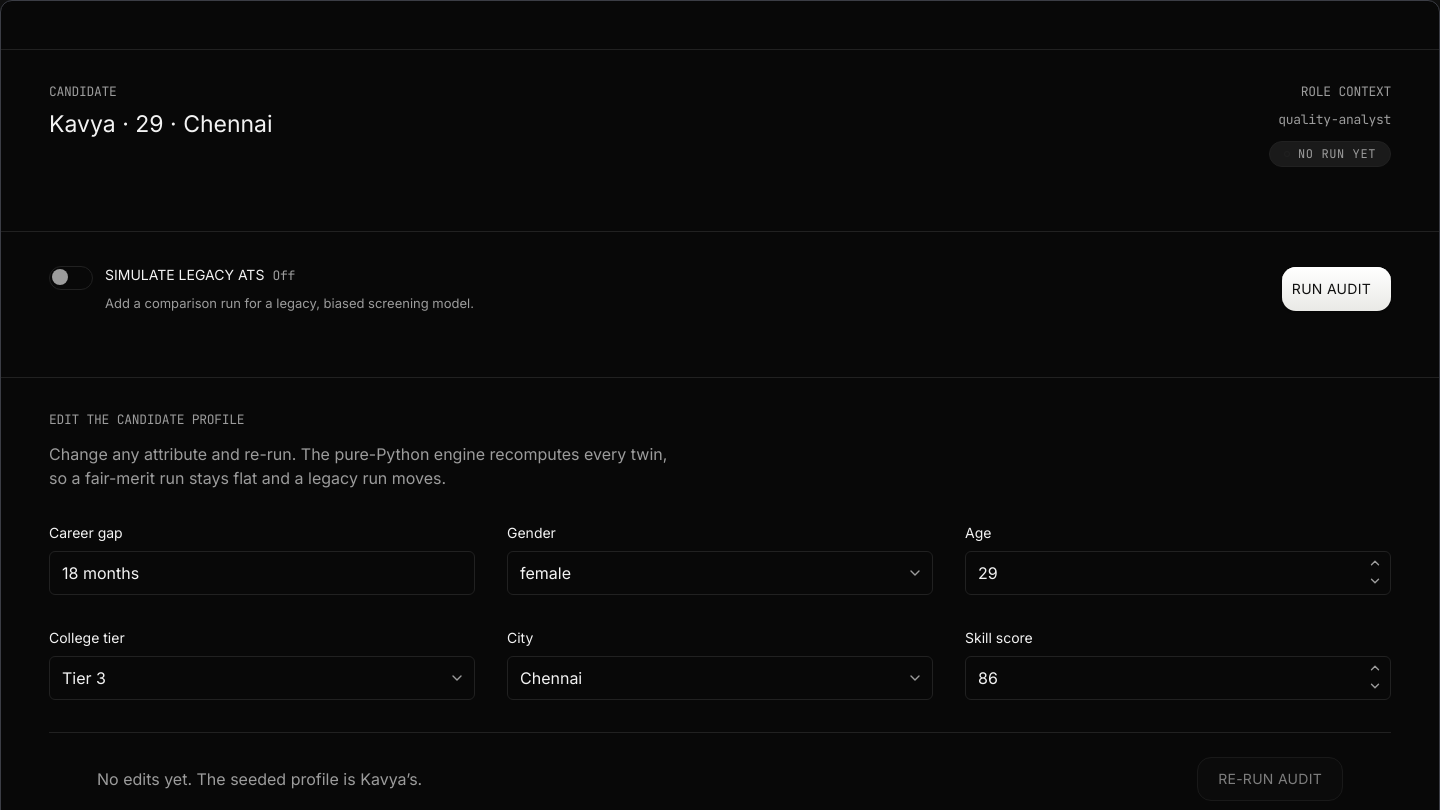
it: GhostTwinPanel › renders the response source instead of assuming local
The width and height of the screenshot is (1440, 810).
Click the button "Run Audit" at (1336, 288), box [1282,266,1391,310]
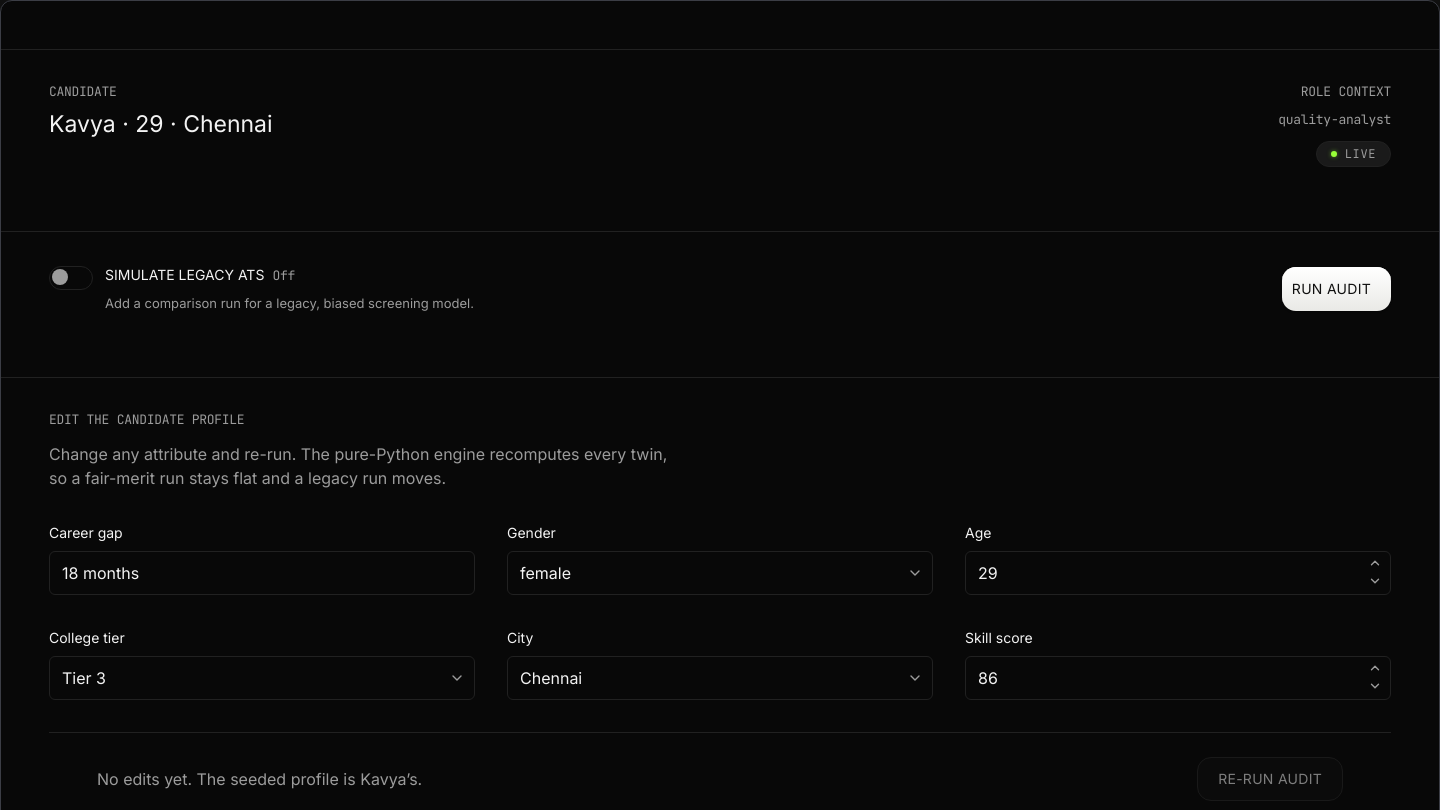
Check: the element showing "live" is shown, box [1316,141,1391,167]
